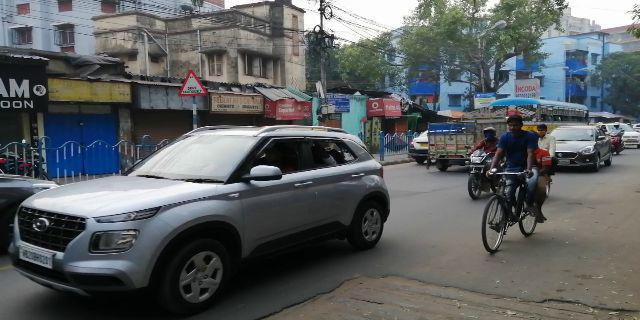Car: (21, 124, 395, 297), (550, 118, 614, 171)
Cycle: (481, 114, 545, 251)
Motorbike: (462, 122, 498, 204)
